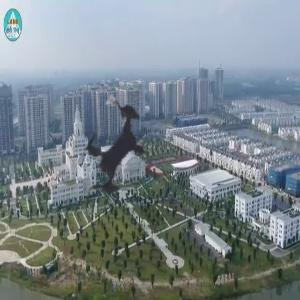drone: (35, 74, 195, 234)
